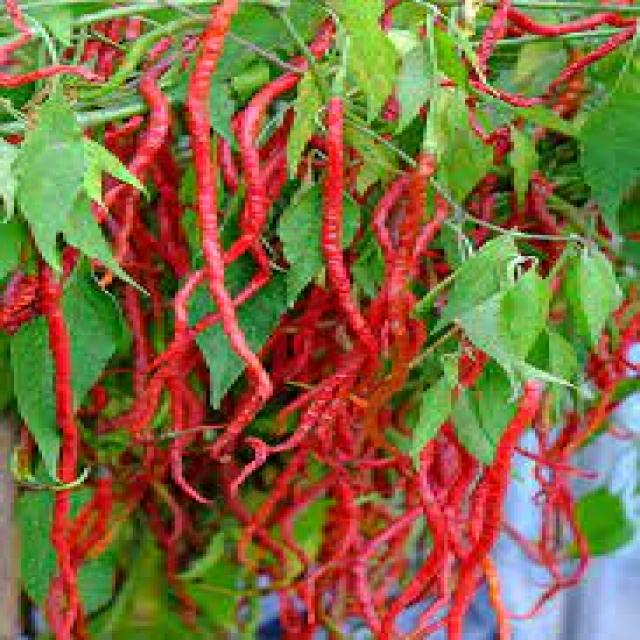red chili: (424, 384, 564, 604), (175, 8, 246, 297), (311, 94, 366, 356), (37, 270, 71, 638)
